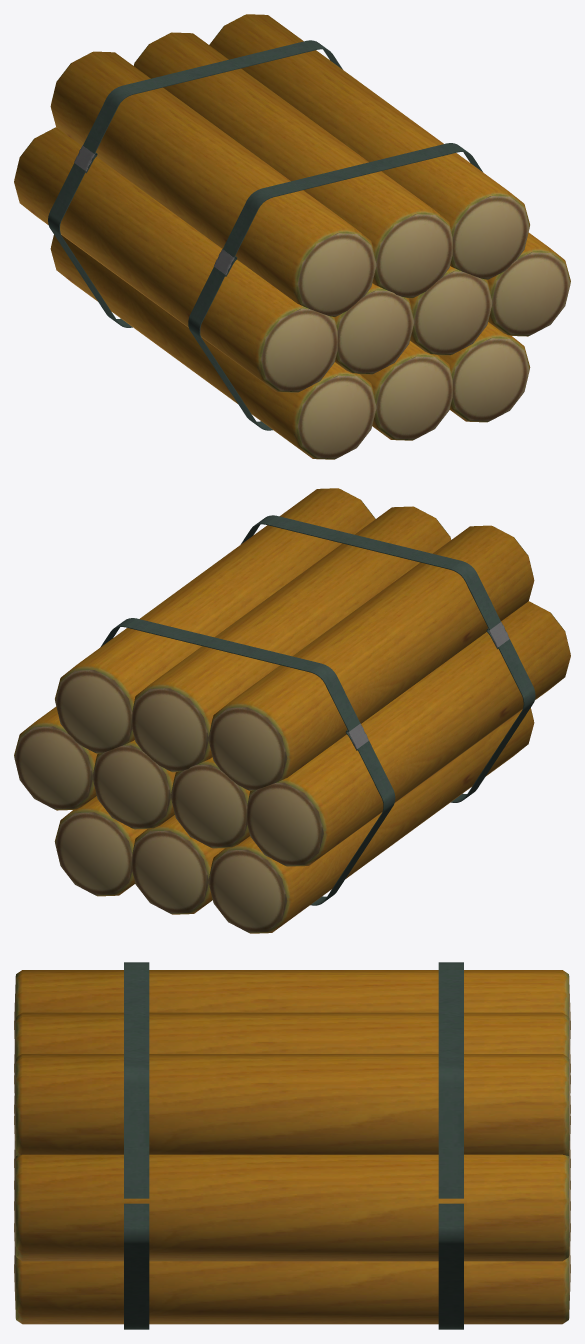
The picture shows the model from 3 angles, top to bottom: view 1: azimuth 30°, elevation 25°; view 2: azimuth 150°, elevation 25°; view 3: azimuth 270°, elevation 25°; orthographic projection. The views are drawn at different scales.
Parts seen in each view (by area): view 1: asset_20fda03a2e3c410da8df4741b_eae9a5__1781600584273_upload; view 2: asset_20fda03a2e3c410da8df4741b_eae9a5__1781600584273_upload; view 3: asset_20fda03a2e3c410da8df4741b_eae9a5__1781600584273_upload.
Boxes of the visible parts, bbox=[...] form: asset_20fda03a2e3c410da8df4741b_eae9a5__1781600584273_upload: bbox=[14, 14, 570, 459]; asset_20fda03a2e3c410da8df4741b_eae9a5__1781600584273_upload: bbox=[14, 488, 570, 933]; asset_20fda03a2e3c410da8df4741b_eae9a5__1781600584273_upload: bbox=[14, 962, 570, 1329].
Size of the model in its own units: 1.58 by 1.06 by 2.05.
Materials: 2 (2 with a texture image).
